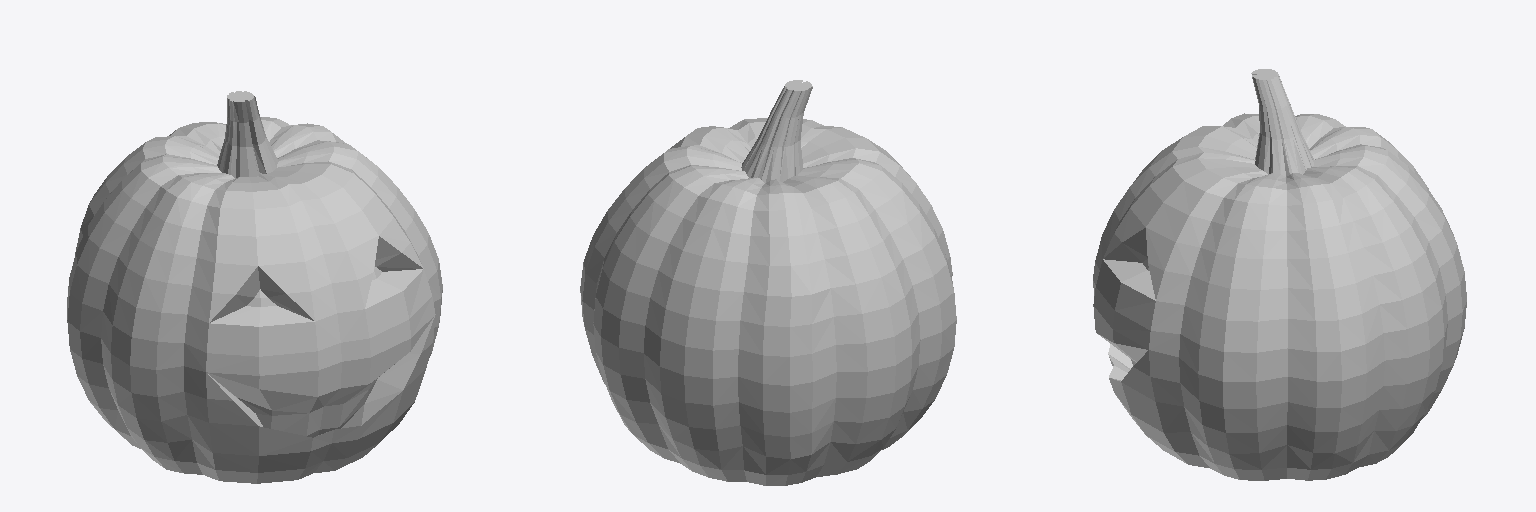
The model's file is buca.obj.
3 views of the same model, side by side, from view 1: azimuth 30°, elevation 25°; view 2: azimuth 150°, elevation 25°; view 3: azimuth 270°, elevation 25° (orthographic).
Parts seen in each view (by area): view 1: Object.1; view 2: Object.1; view 3: Object.1.
Part boxes in pixels (x1,y1,x2,y2): Object.1: (67, 91, 442, 483); Object.1: (580, 80, 956, 485); Object.1: (1093, 69, 1466, 480).
Bounding box in the file's own units: 1.74 × 1.77 × 1.76.